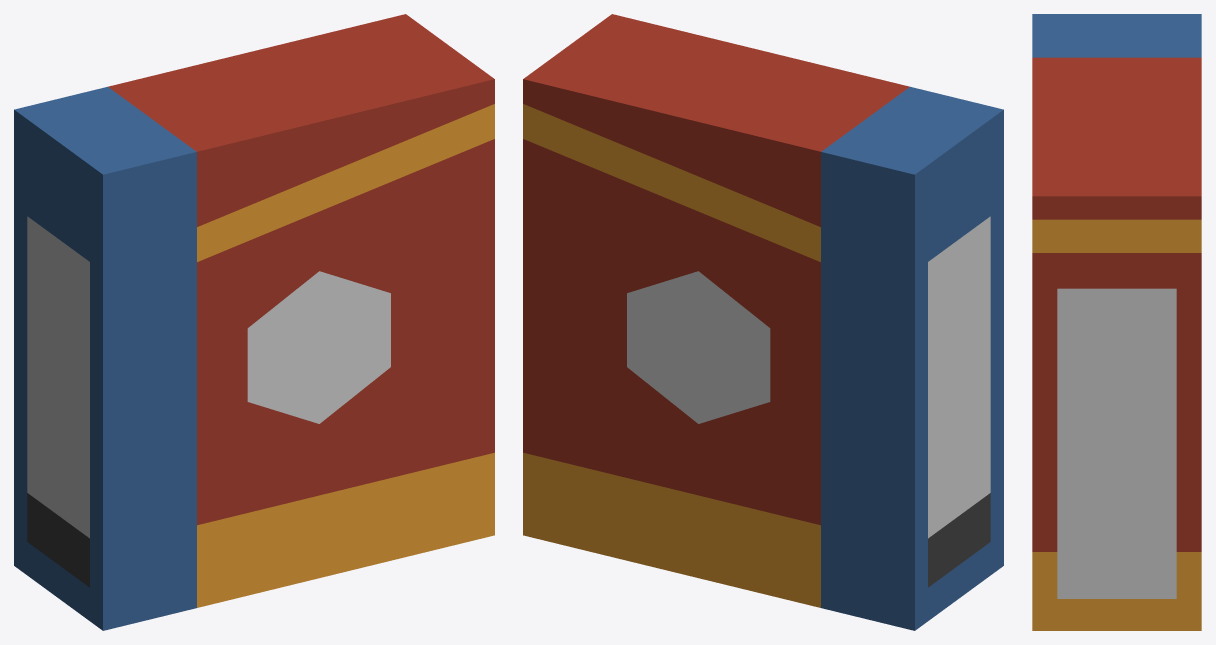
Rendered from SM_Prop_LaundryBox_01.fbx.
The picture shows the model from 3 angles, left to right: view 1: azimuth 30°, elevation 25°; view 2: azimuth 150°, elevation 25°; view 3: azimuth 270°, elevation 25°; orthographic projection. The views are drawn at different scales.
Visible parts, largest first — view 1: SM_Prop_LaundryBox_01; view 2: SM_Prop_LaundryBox_01; view 3: SM_Prop_LaundryBox_01.
Boxes of the visible parts, x1,y1,x2,y2 form: SM_Prop_LaundryBox_01: (14,14,494,630); SM_Prop_LaundryBox_01: (523,14,1003,630); SM_Prop_LaundryBox_01: (1032,14,1201,630).
Size of the model in its own units: 31.38 by 34.92 by 12.35.
